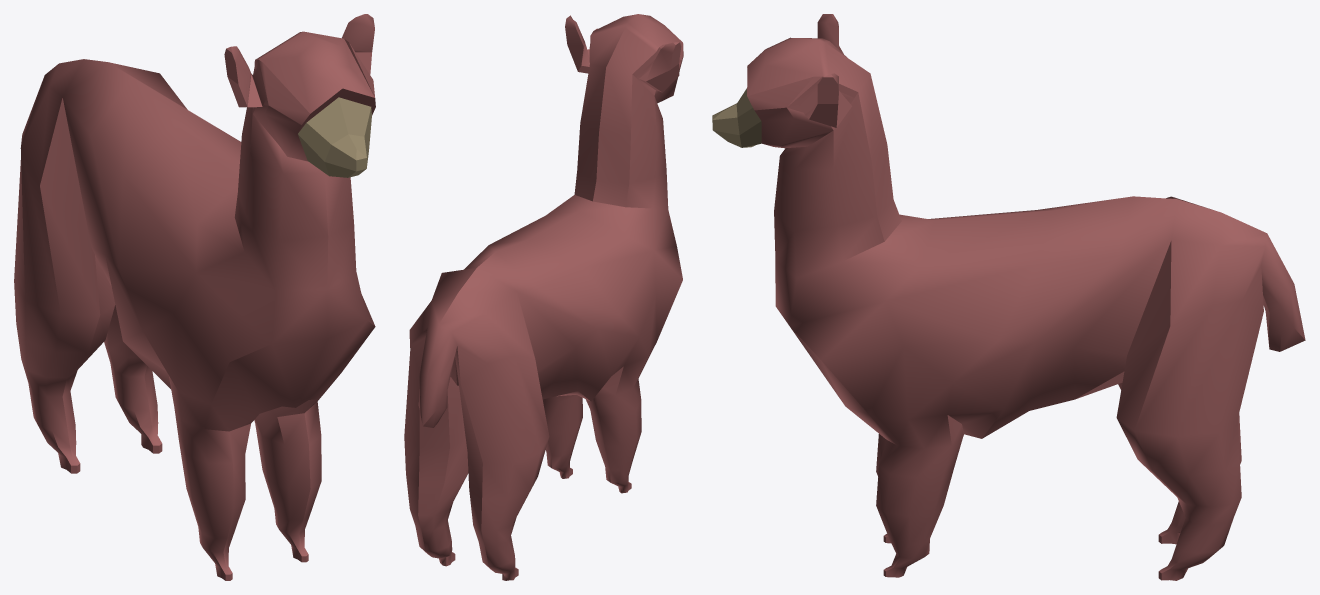
File: alpacaModel.dae
3 views of the same model, side by side, from view 1: azimuth 30°, elevation 25°; view 2: azimuth 150°, elevation 25°; view 3: azimuth 270°, elevation 25° (orthographic). The views are drawn at different scales.
Parts seen in each view (by area): view 1: pCube4; view 2: pCube4; view 3: pCube4.
Part boxes in pixels (x1,y1,x2,y2): pCube4: [14, 14, 375, 580]; pCube4: [404, 14, 683, 580]; pCube4: [712, 14, 1305, 580].
Bounding box in the file's own units: 0.0966 × 0.2987 × 0.3075.
